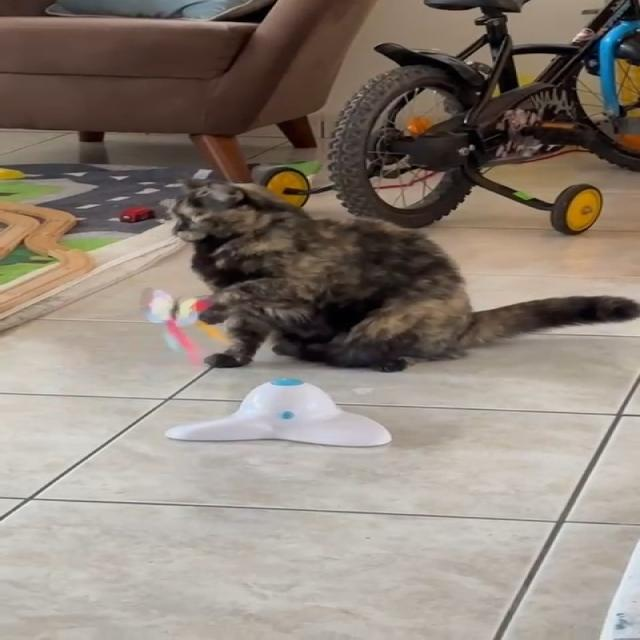authorized: (166, 177, 638, 373)
